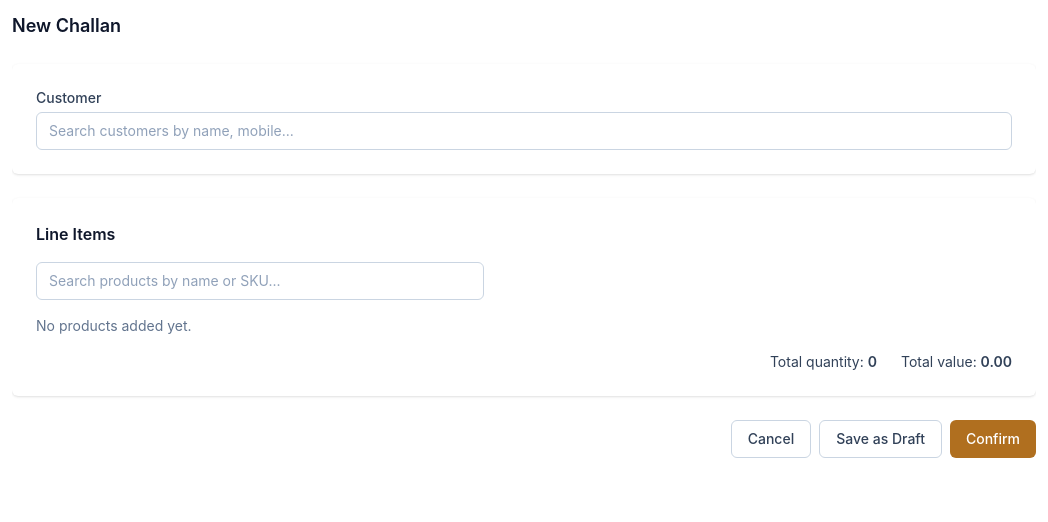
Test: ChallanBuilderPage › requires a customer and at least one product before saving
Click the button "Save as Draft": (881, 439) [819,420,942,458]
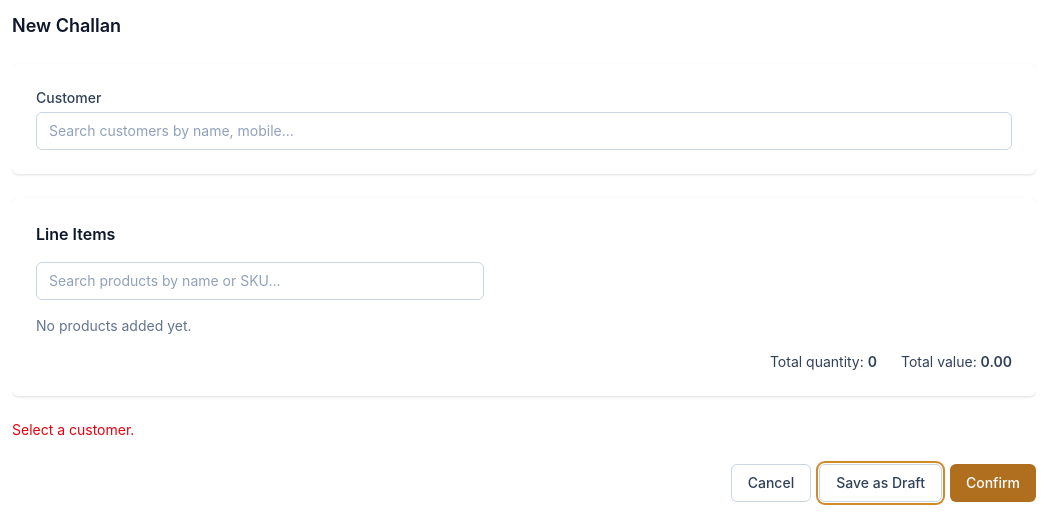
Now the message reads "Select a customer.", box [12,421,134,438]
